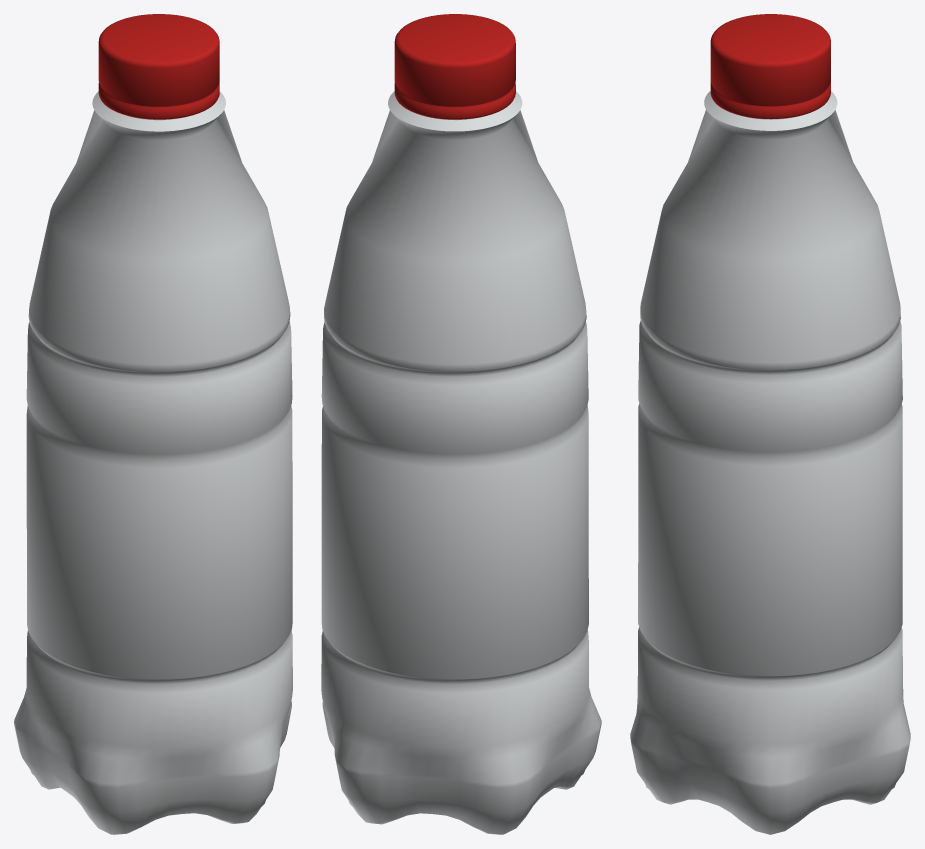
The model's file is bottle_pet500.glb.
3 renders of one model, left to right at view 1: azimuth 30°, elevation 25°; view 2: azimuth 150°, elevation 25°; view 3: azimuth 270°, elevation 25°, orthographic.
Visible parts, largest first — view 1: Glass, Cap; view 2: Glass, Cap; view 3: Glass, Cap.
Boxes of the visible parts, x1,y1,x2,y2 form: Glass: [14, 91, 292, 834]; Cap: [98, 14, 219, 119]; Glass: [321, 91, 601, 834]; Cap: [394, 14, 515, 119]; Glass: [630, 91, 910, 834]; Cap: [710, 14, 830, 119].
Bounding box in the file's own units: 0.0695 × 0.2062 × 0.0699.
